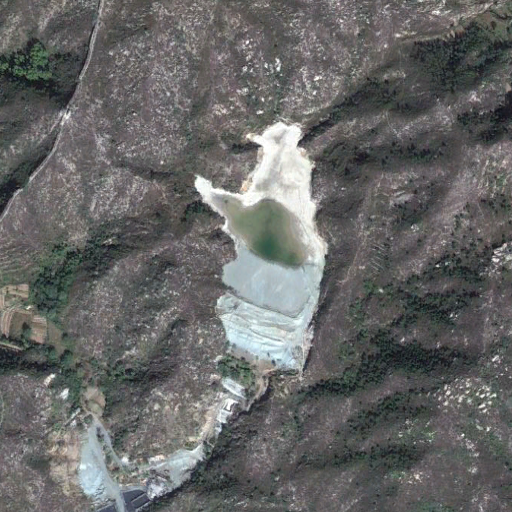tp: (193, 122, 324, 371)
